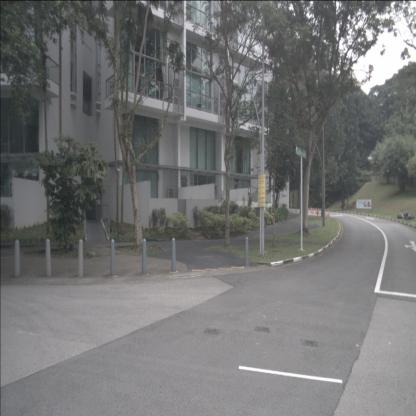movable_object-trafficcone: (327, 209, 330, 217), (312, 207, 315, 214), (315, 207, 317, 214), (317, 208, 319, 215), (310, 207, 312, 213)
